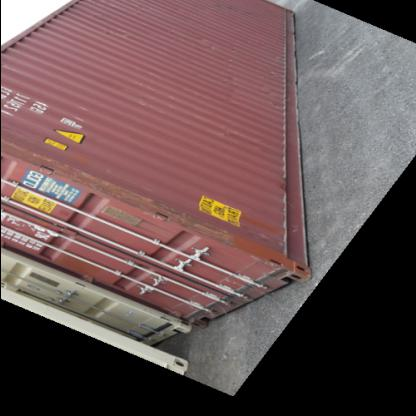Damage: (97, 188, 223, 243), (3, 135, 98, 198)
